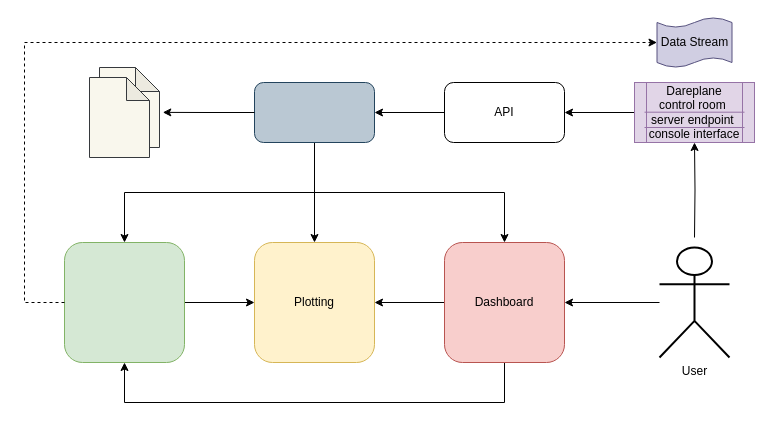
The diagram is 772 pixels wide and 428 high, and some of its shapes have lost their labels. The shapes that lost their labels are listed below. From the top down, each one's centre as x and y in pixels, then its label:
At (119,117): "Config Files".
At (314,112): "Main".
At (124,302): "Projector".
